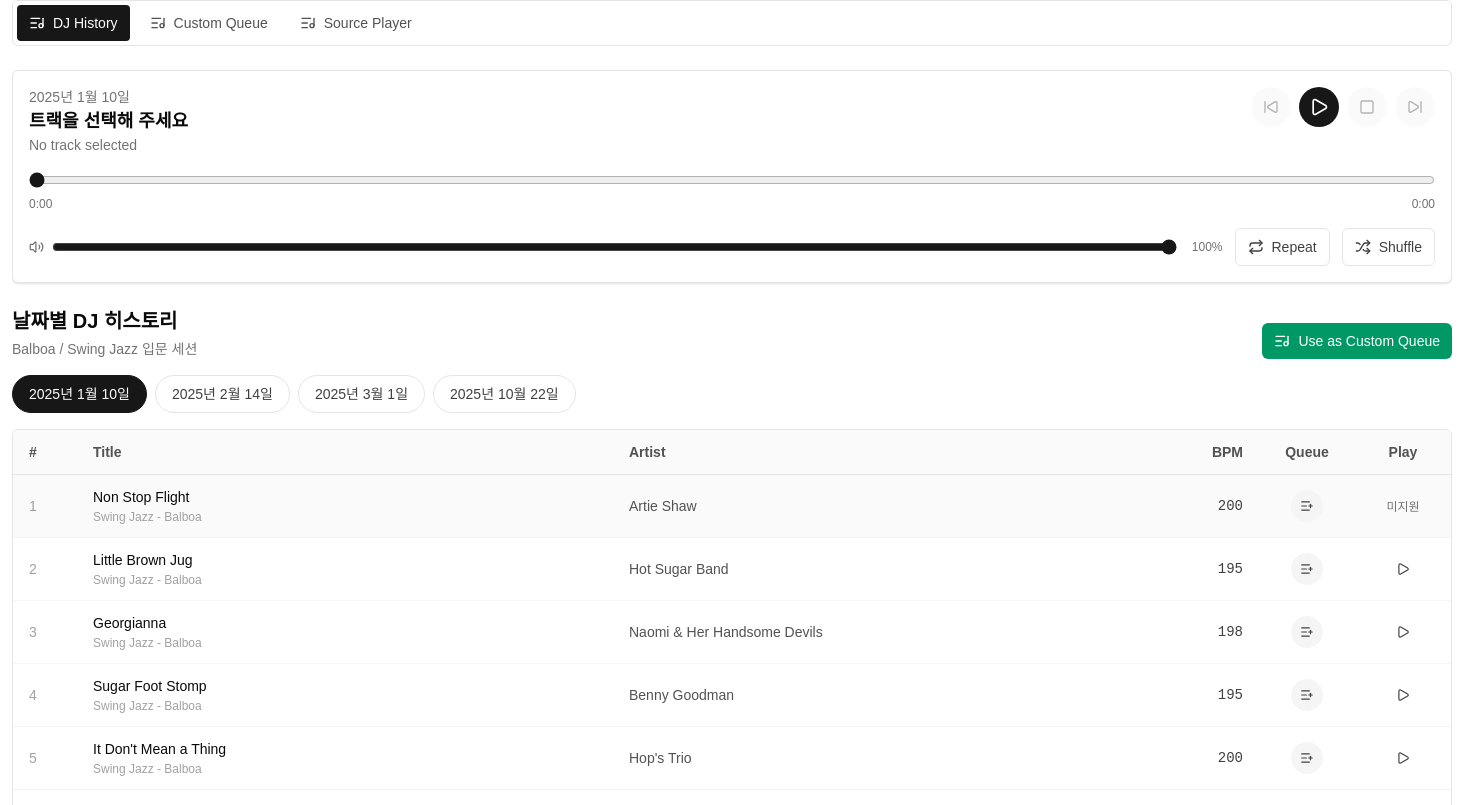
Test: MusicStudio › plays a supported track from the history table
Click the button named "Play Little Brown Jug" in the row of "Little Brown Jug" at (1403, 568), box 1388,558 -> 1418,580
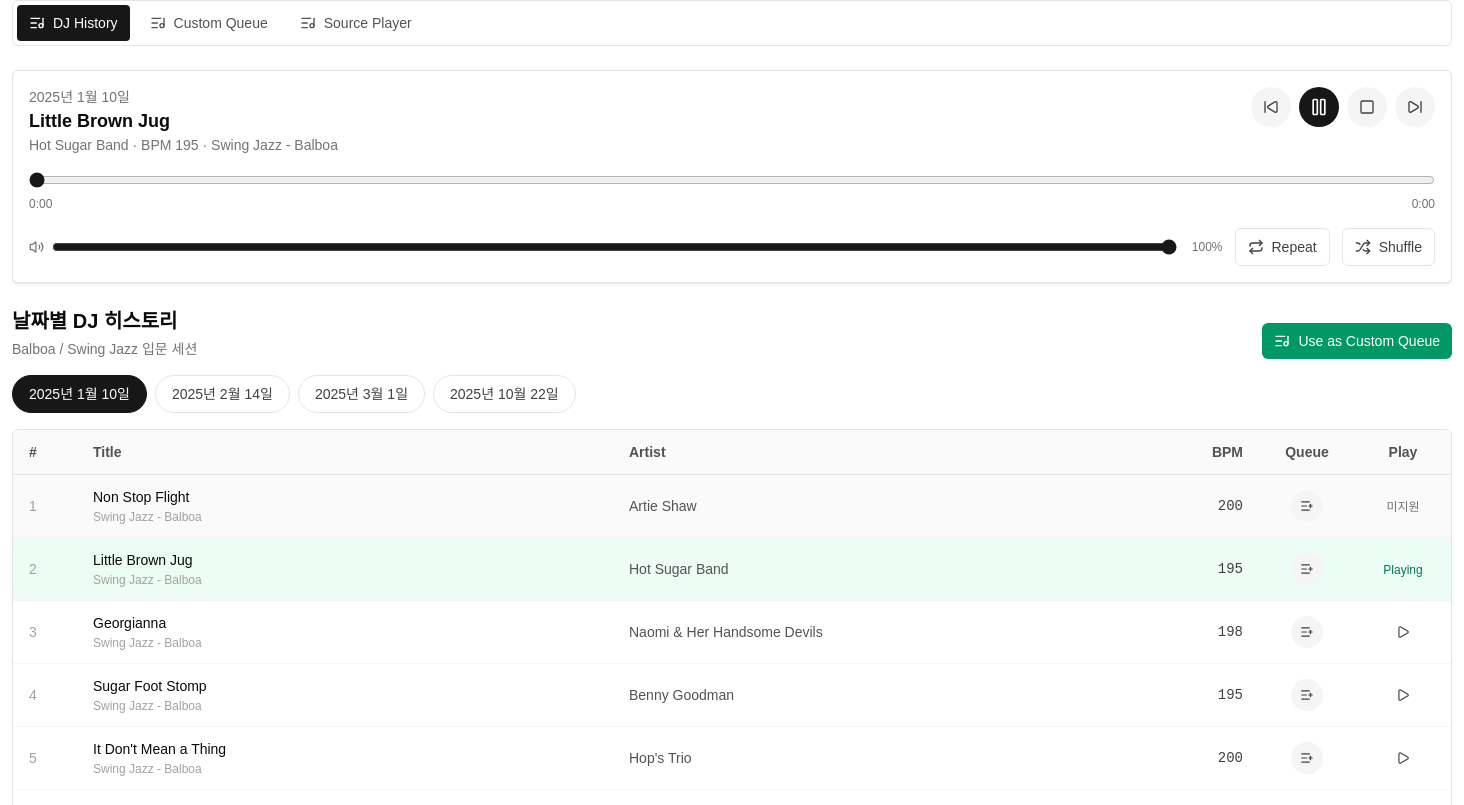
Check: the heading "Little Brown Jug" is shown, box 29,111 -> 170,131
